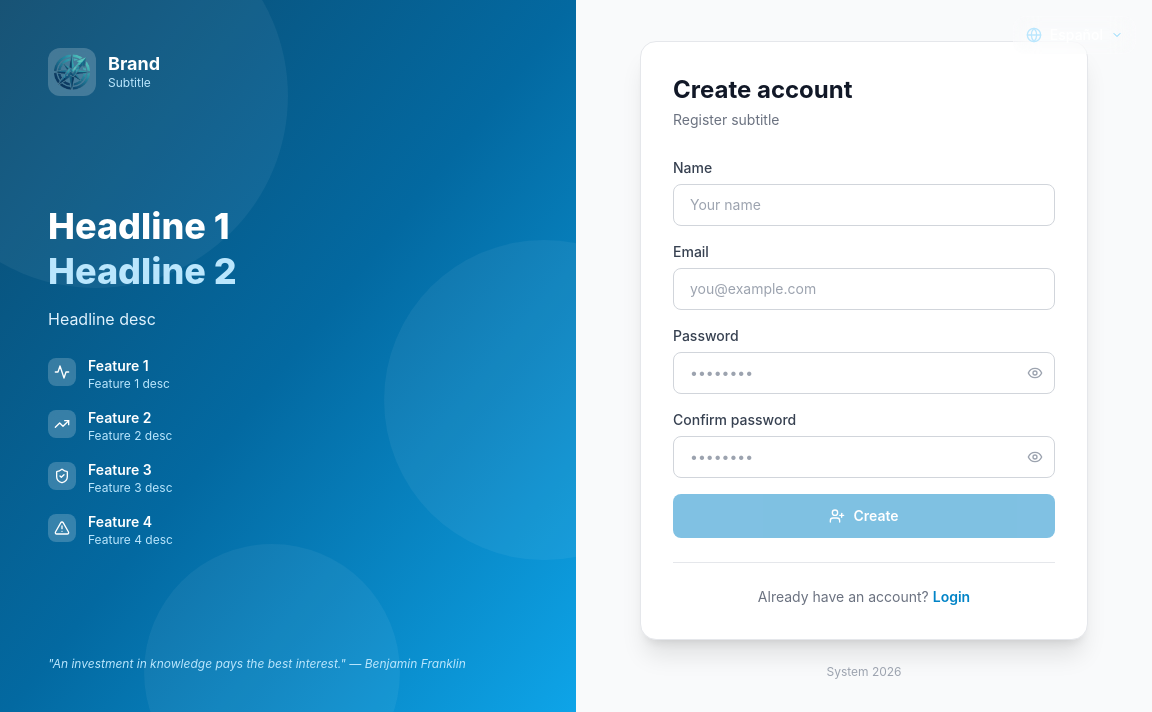
Test: RegisterPage › shows error when password requirements are not met
Type "Alice" into the field labelled "Name".
click(864, 204); type("Alice")  # box [673,184,1055,226]
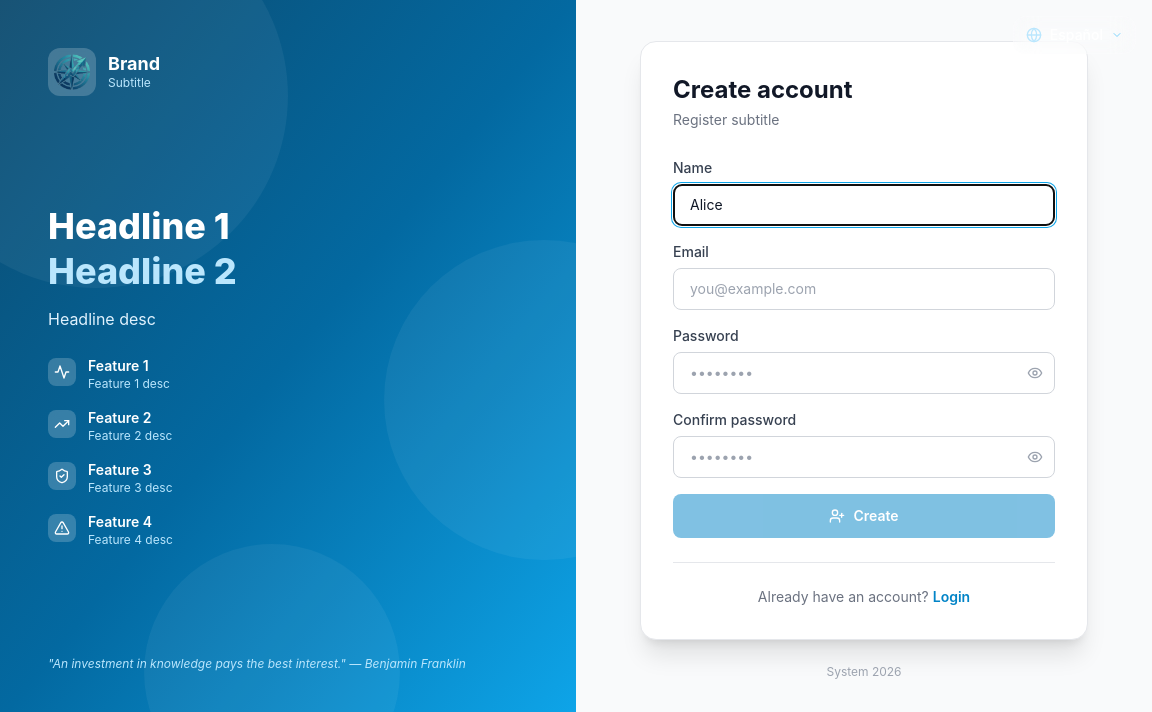
Type "alice@example.com" into the field labelled "Email".
click(864, 288); type("alice@example.com")  # box [673,268,1055,310]
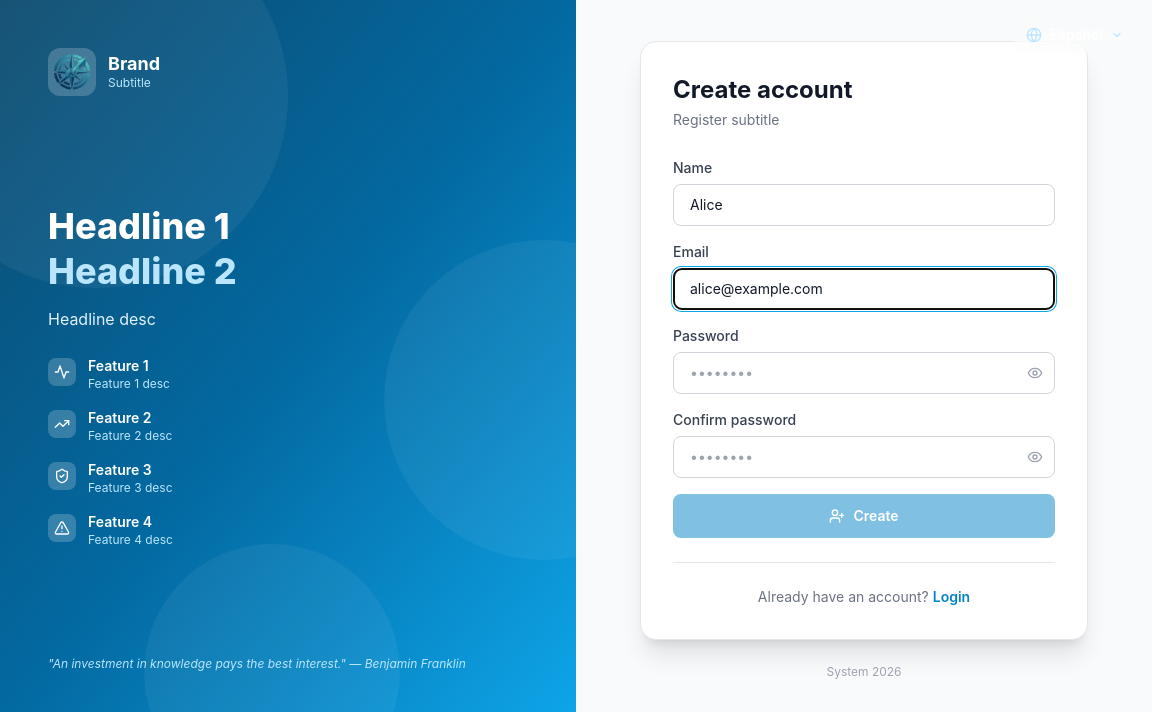
Type "short" into the password field labelled "Password".
click(864, 372); type("short")  # box [673,352,1055,394]
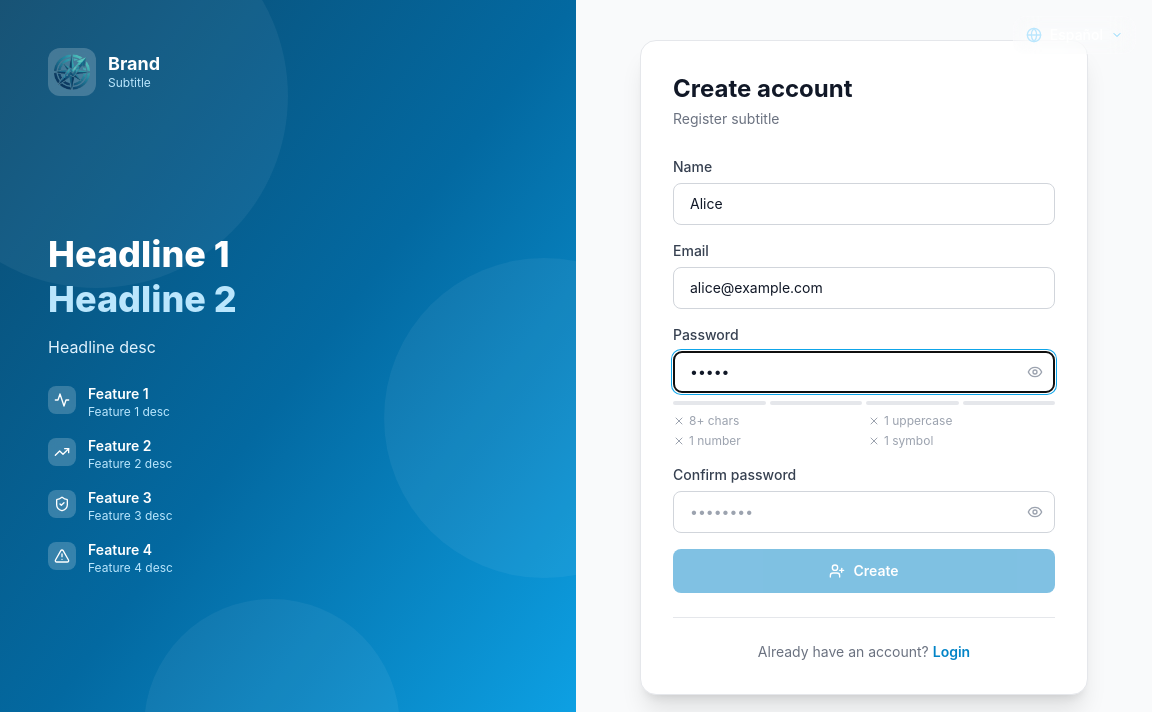
Type "short" into the password field labelled "Confirm password".
click(864, 512); type("short")  # box [673,491,1055,533]
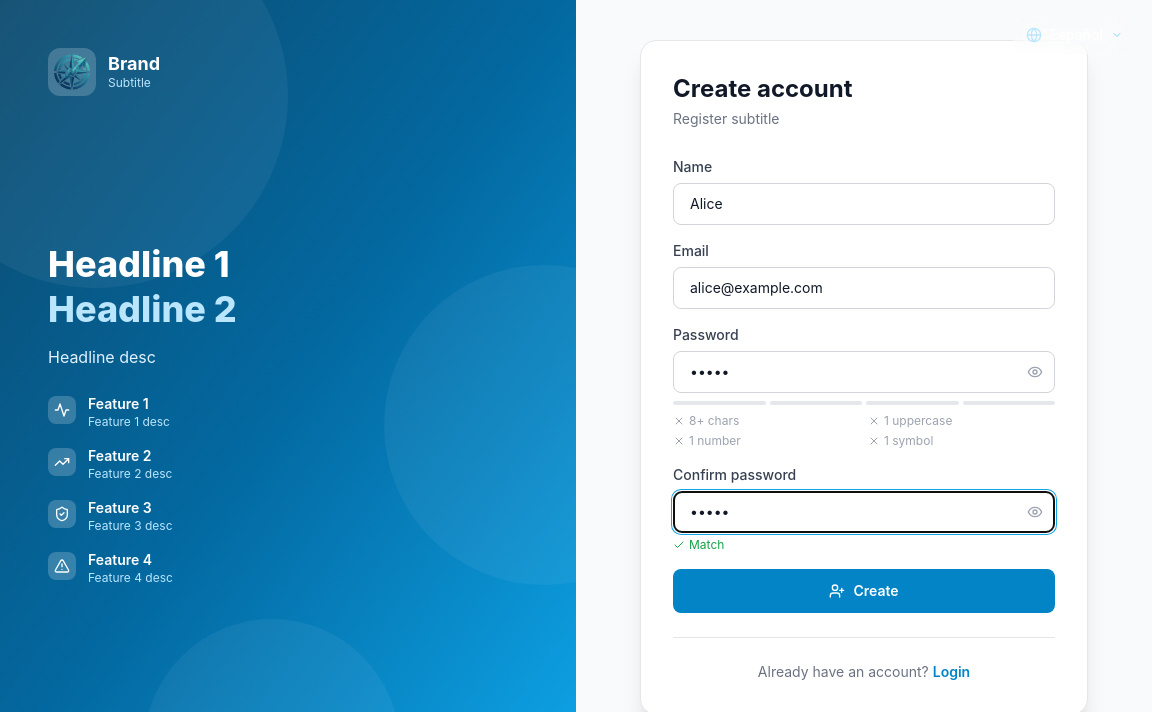
Click the button "Create".
click(864, 591)  # box [673,569,1055,613]
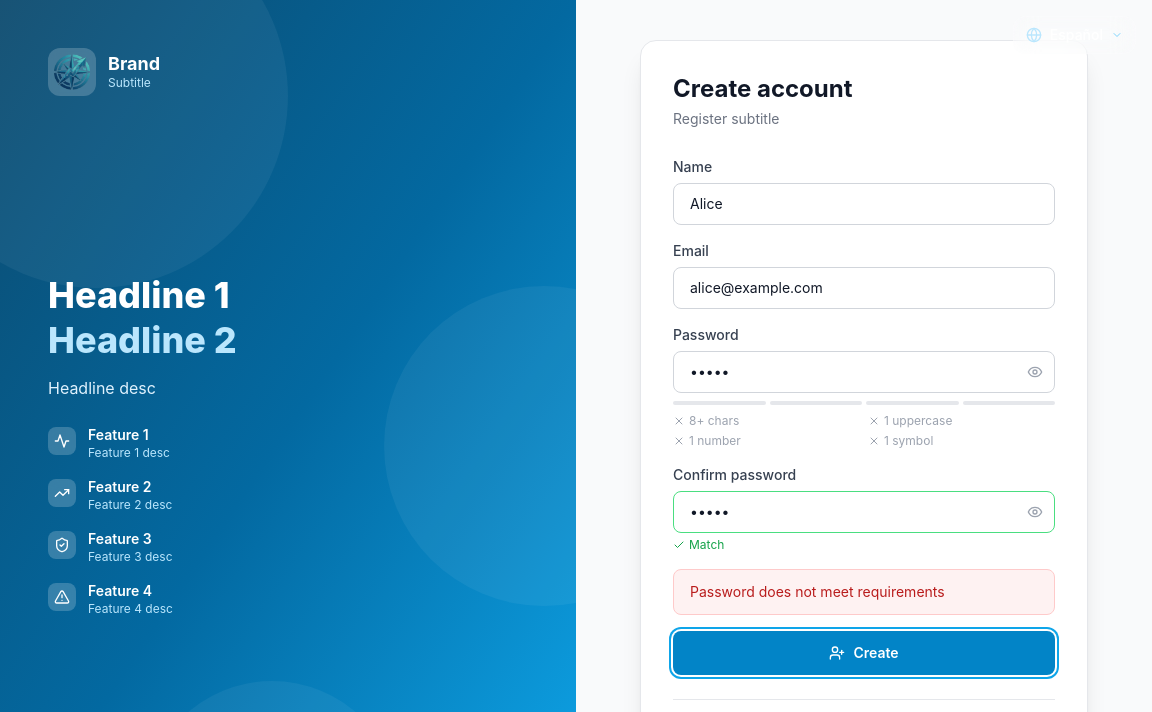
expect the text "Password does not meet requirements" is shown: met, box [690,583,945,600]
